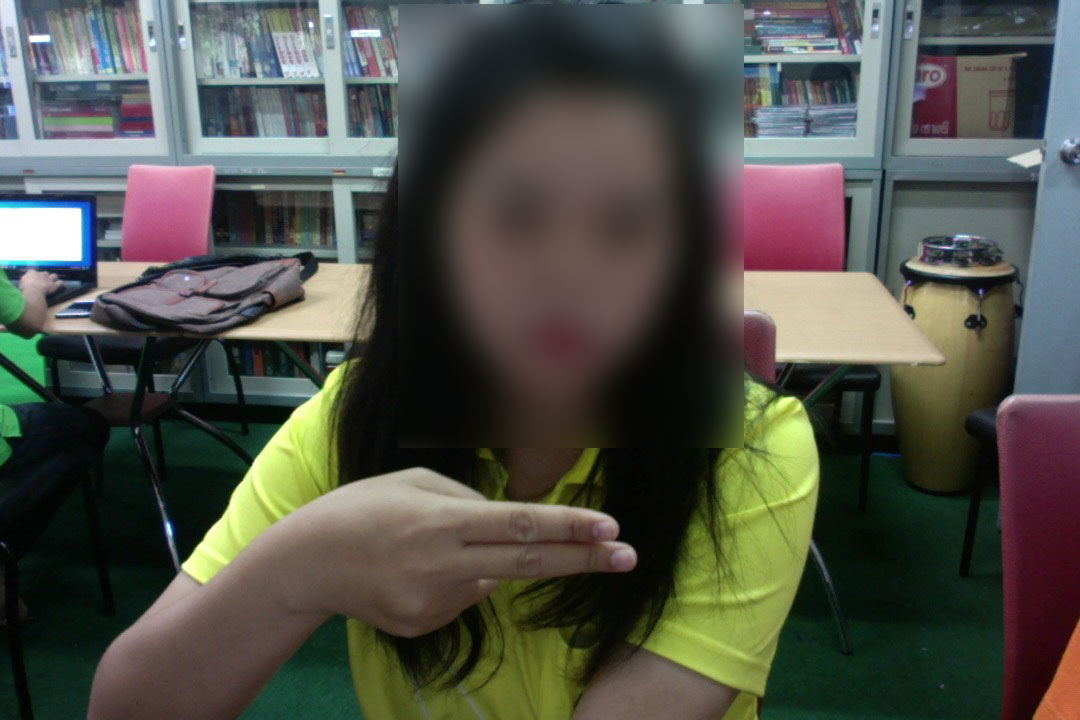hor: (275, 453, 641, 642)
